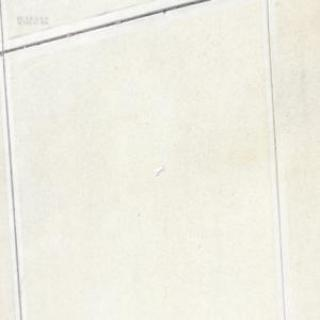Wrenchtrack_idkeyframe: (154, 165, 163, 175)
